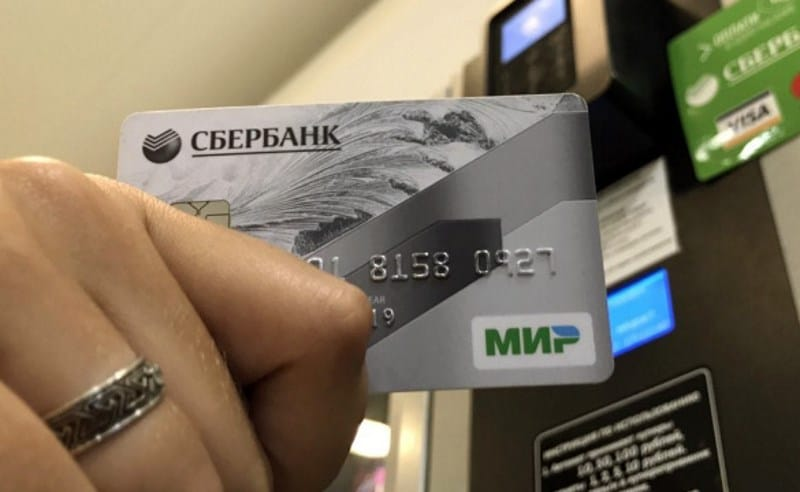card: (119, 93, 610, 388)
